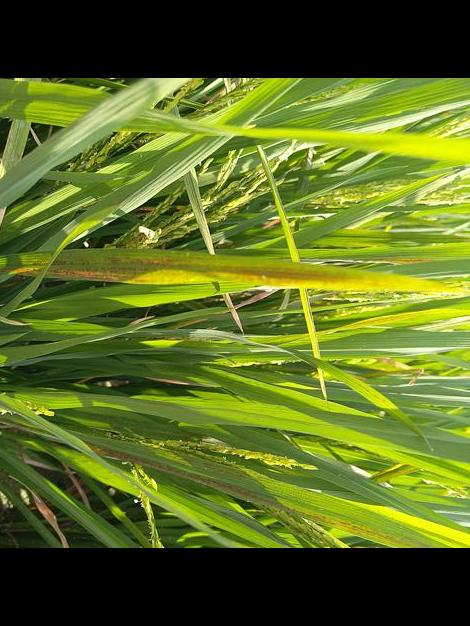Leaf Streak: (77, 436, 434, 548), (14, 248, 460, 291)
